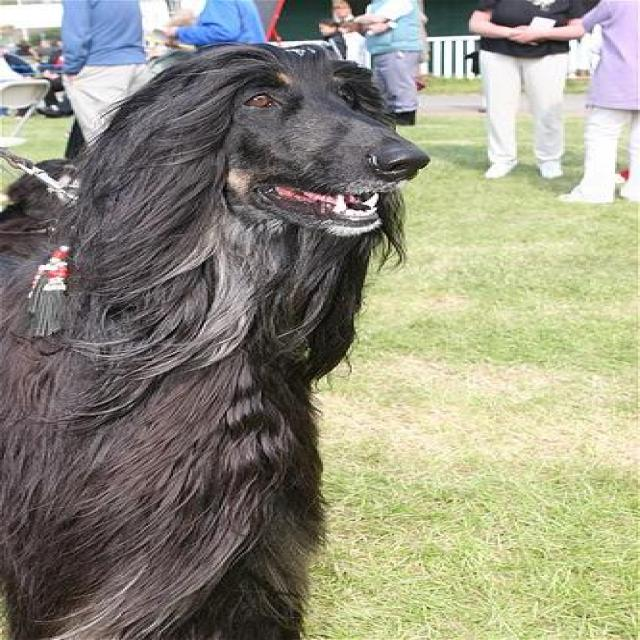afghan_hound: (2, 45, 432, 637)
